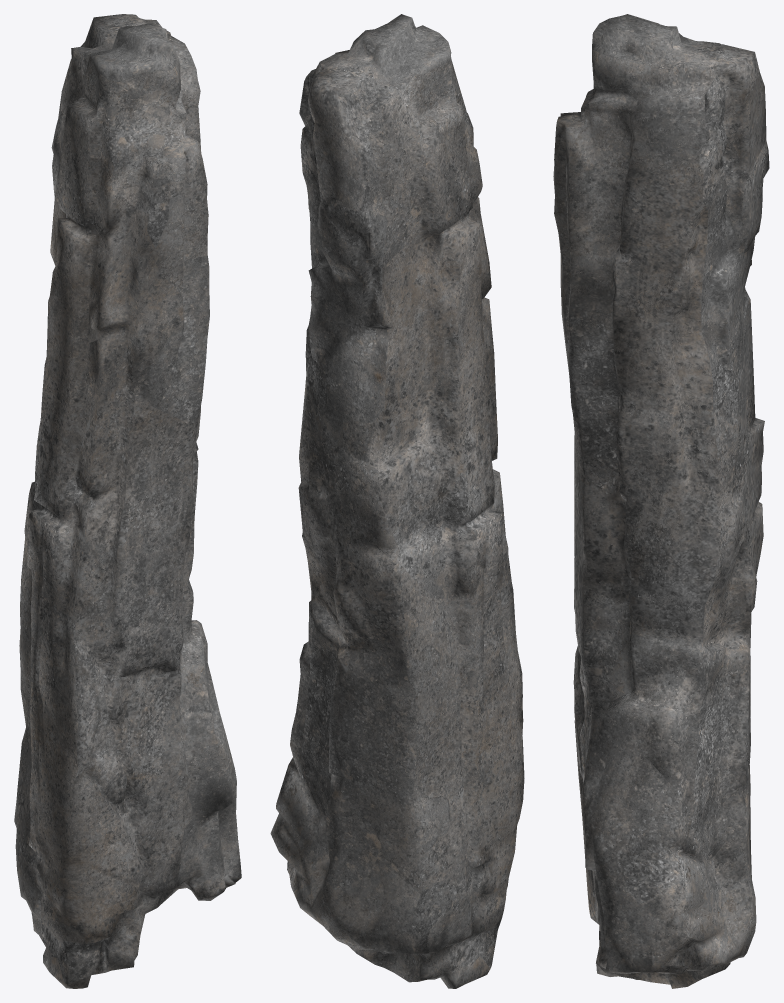
The model's file is SM_Rock_2.fbx.
3 renders of one model, left to right at view 1: azimuth 30°, elevation 25°; view 2: azimuth 150°, elevation 25°; view 3: azimuth 270°, elevation 25°, orthographic. The views are drawn at different scales.
Parts seen in each view (by area): view 1: SM_Rock_2_LOD0; view 2: SM_Rock_2_LOD0; view 3: SM_Rock_2_LOD0.
Boxes of the visible parts, box(x1,y1,x2,y2) form: SM_Rock_2_LOD0: box(14, 14, 241, 988); SM_Rock_2_LOD0: box(270, 14, 524, 988); SM_Rock_2_LOD0: box(553, 14, 769, 988).
Bounding box in the file's own units: 359 × 309 × 1562.
